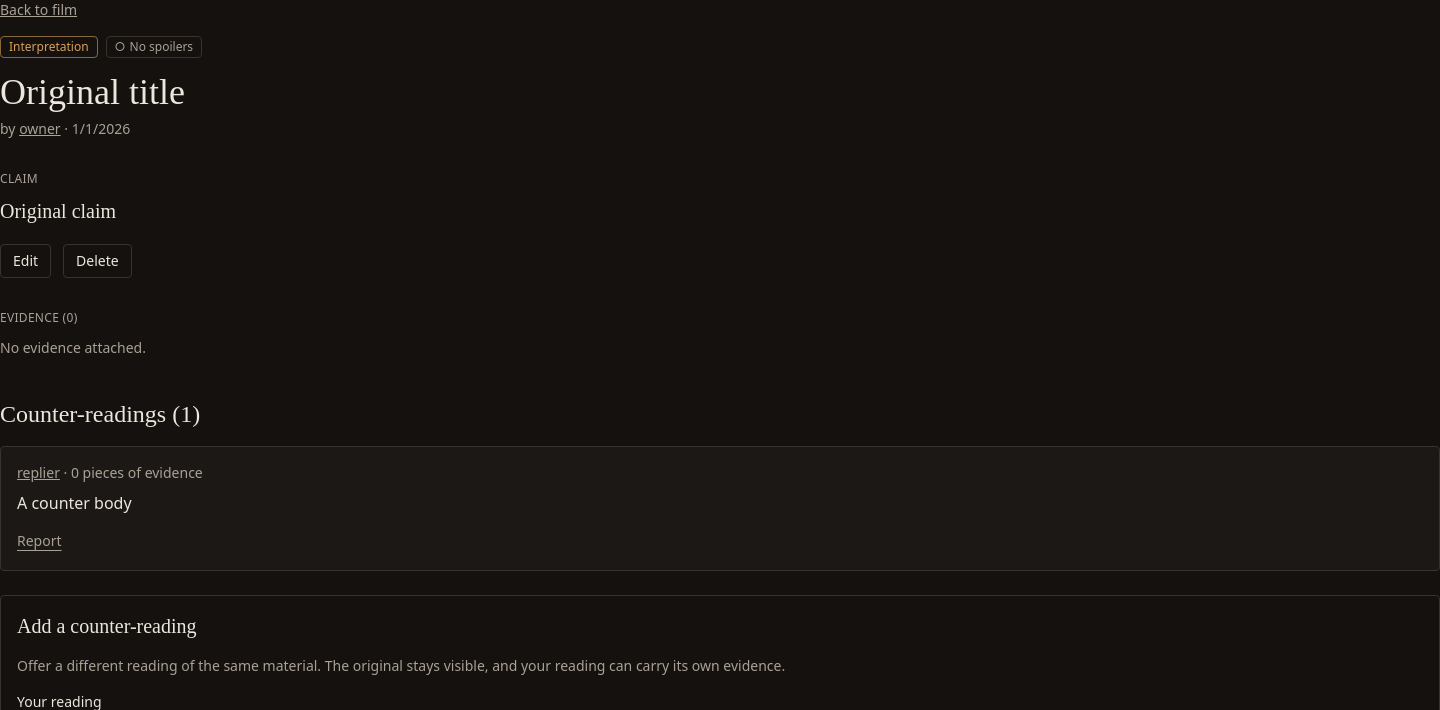
it: owner controls on the interpretation page › surfaces a server refusal and leaves the page in place
Click the button "Delete".
click(97, 260)  # box [63,244,132,278]
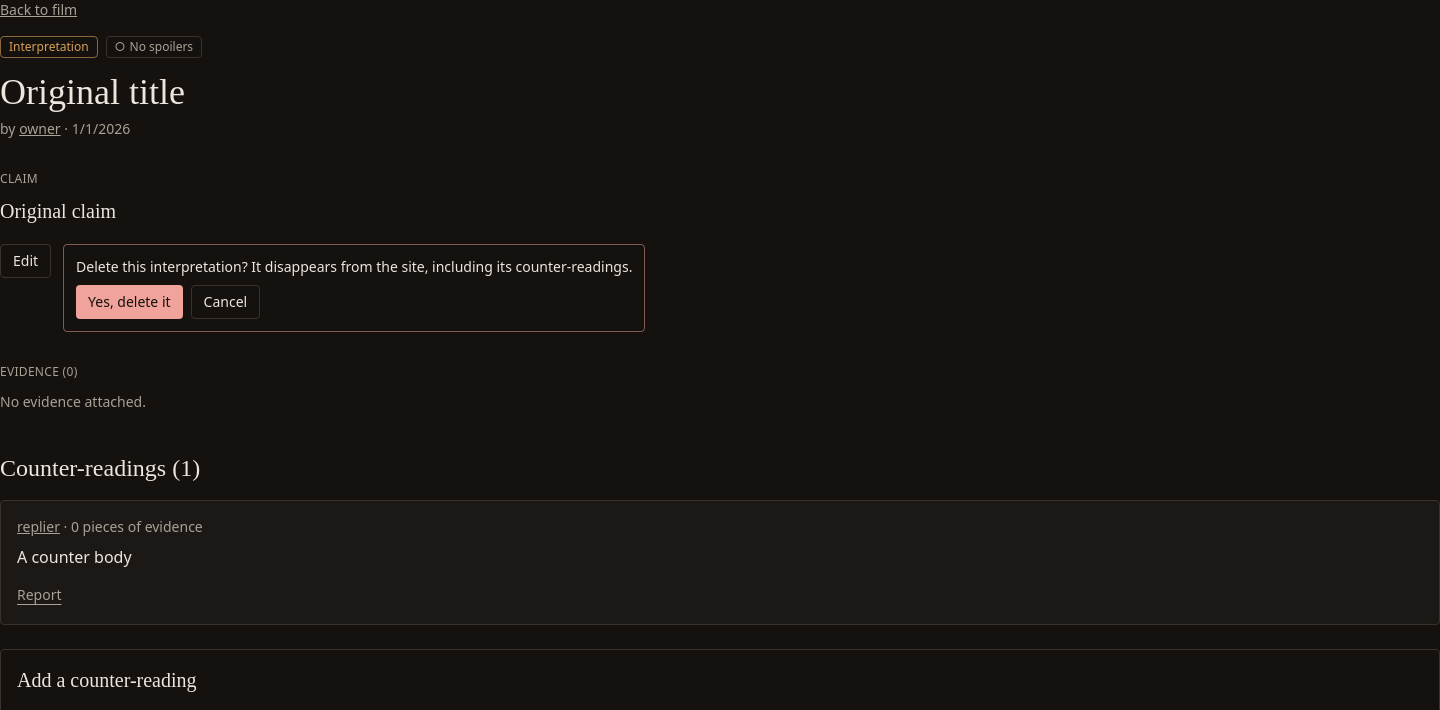
Click the button "Yes, delete it".
click(129, 302)  # box [76,284,183,318]
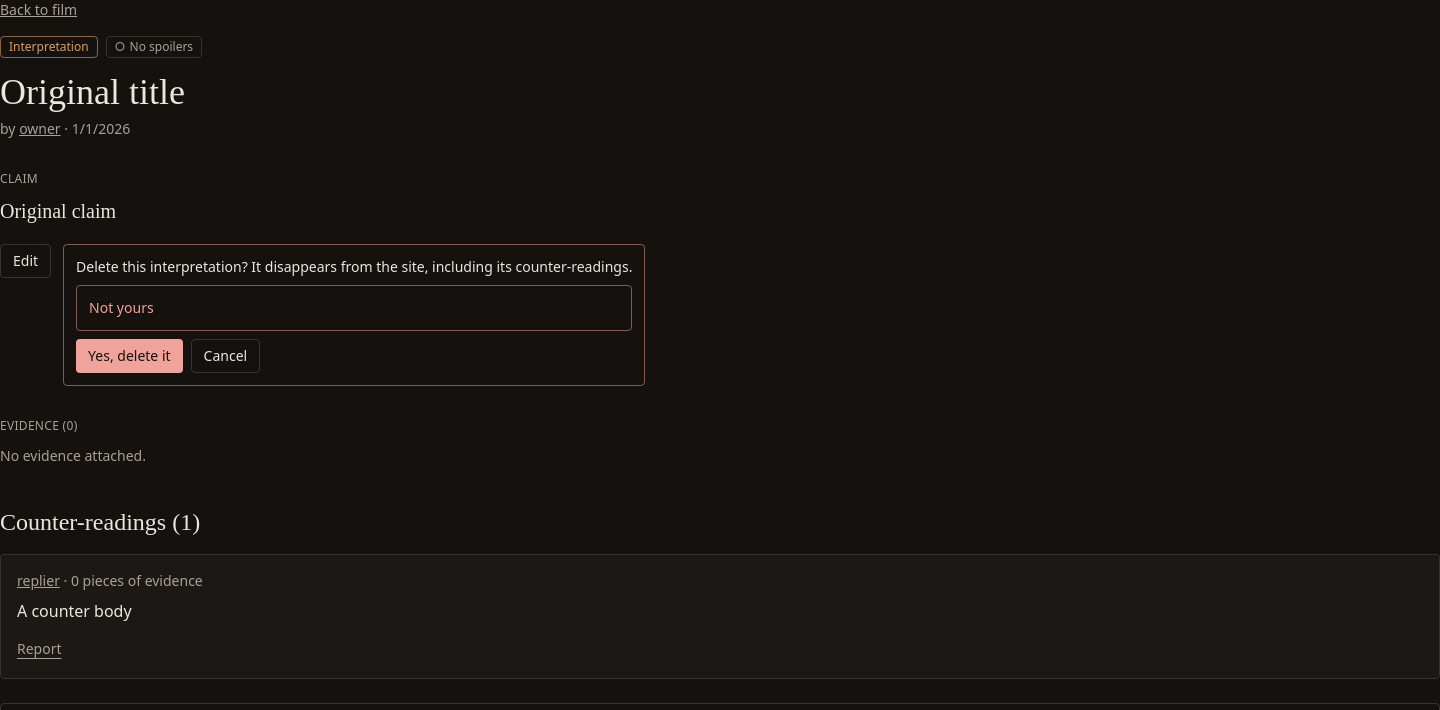
expect the heading "Original title" is shown: met, box [0,72,185,112]
expect the message reads "Not yours": met, box [89,298,154,316]
